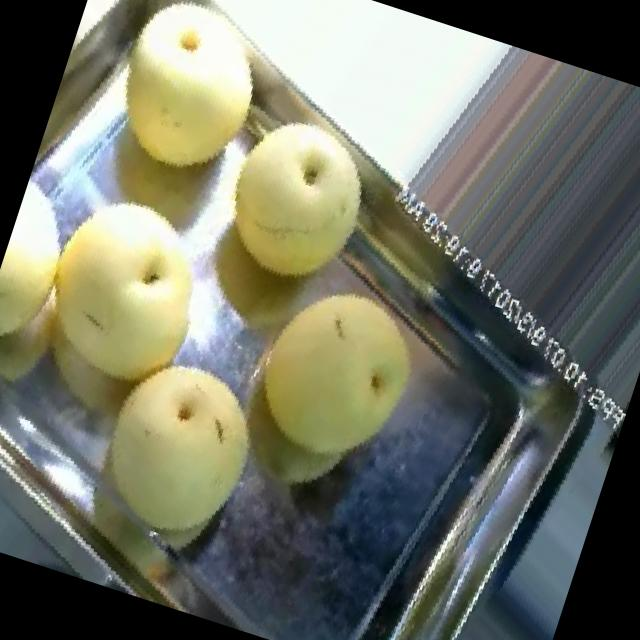Fruit: (48, 316, 304, 590), (0, 163, 255, 434), (209, 243, 460, 508), (170, 77, 413, 326), (61, 0, 304, 218)
